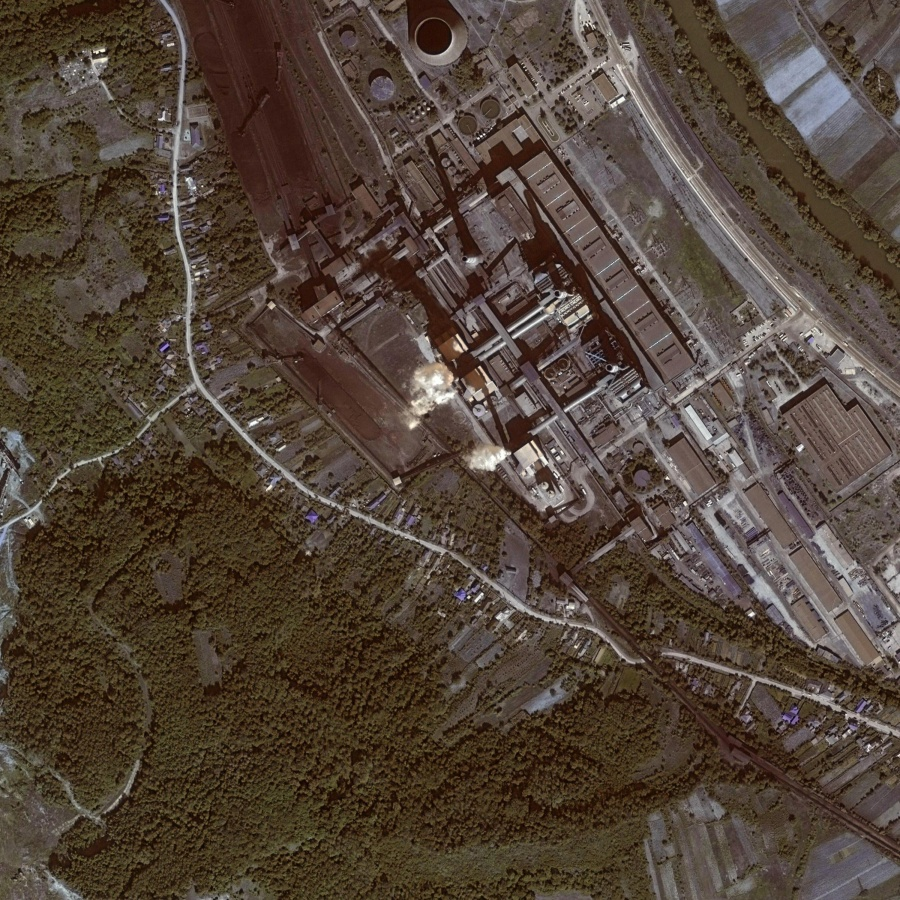PowerPlant: (294, 271, 509, 500)
